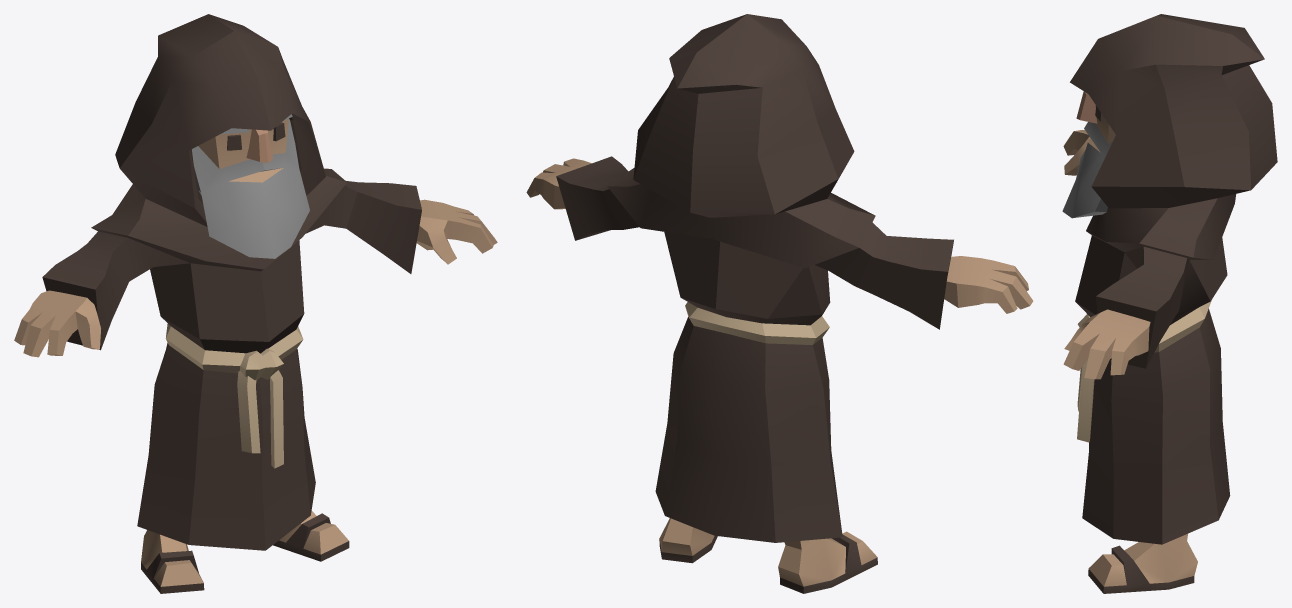
Rendered from monk.glb.
The picture shows the model from 3 angles, left to right: view 1: azimuth 30°, elevation 25°; view 2: azimuth 150°, elevation 25°; view 3: azimuth 270°, elevation 25°; orthographic projection. The views are drawn at different scales.
Parts seen in each view (by area): view 1: monk; view 2: monk; view 3: monk.
Part boxes in pixels (left/top/right/bottom): monk: left=14, top=14, right=497, bottom=593; monk: left=526, top=14, right=1033, bottom=593; monk: left=1062, top=14, right=1277, bottom=593.
Bounding box in the file's own units: 1.45 × 1.54 × 0.5594.
1 material, 1 textured.
